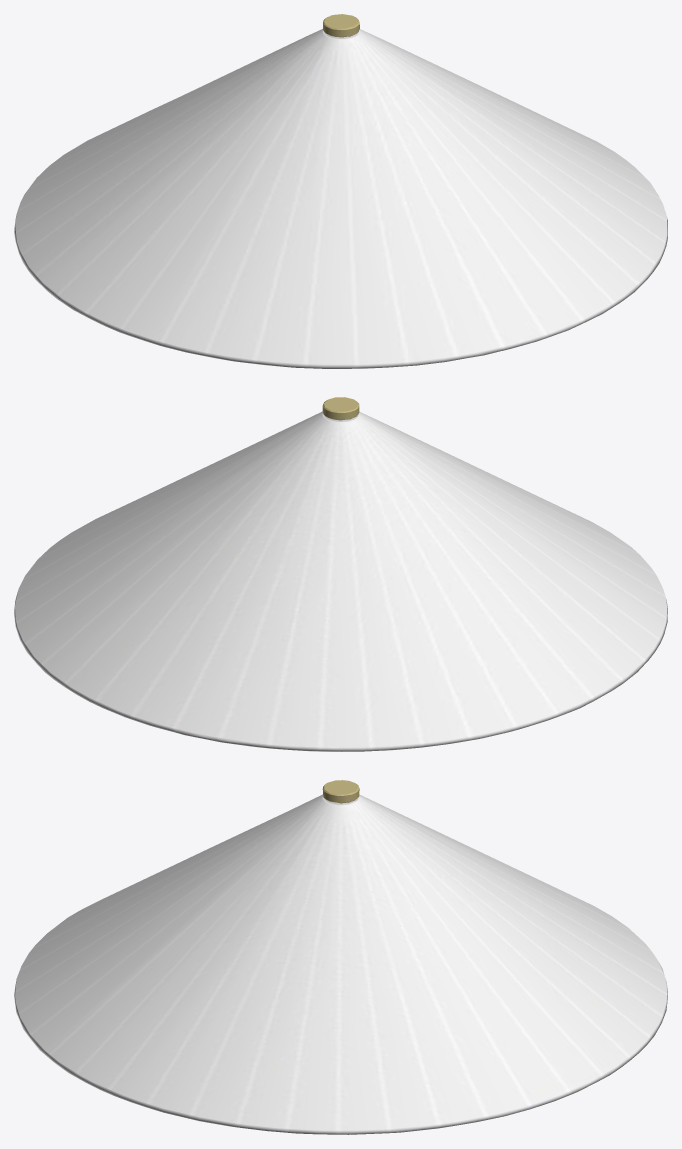
The model's file is rorkult_lampa_scienna_staa_instalacja_00575432.glb.
The picture shows the model from 3 angles, top to bottom: view 1: azimuth 30°, elevation 25°; view 2: azimuth 150°, elevation 25°; view 3: azimuth 270°, elevation 25°; orthographic projection.
Parts seen in each view (by area): view 1: rorkult_lampa_scienna_staa_instalacja_00575432; view 2: rorkult_lampa_scienna_staa_instalacja_00575432; view 3: rorkult_lampa_scienna_staa_instalacja_00575432.
Boxes of the visible parts, x1,y1,x2,y2 form: rorkult_lampa_scienna_staa_instalacja_00575432: [14, 14, 667, 368]; rorkult_lampa_scienna_staa_instalacja_00575432: [14, 397, 667, 751]; rorkult_lampa_scienna_staa_instalacja_00575432: [14, 780, 667, 1134].
Bounding box in the file's own units: 0.3546 × 0.1469 × 0.3547.
Materials: 2 (2 with a texture image).
